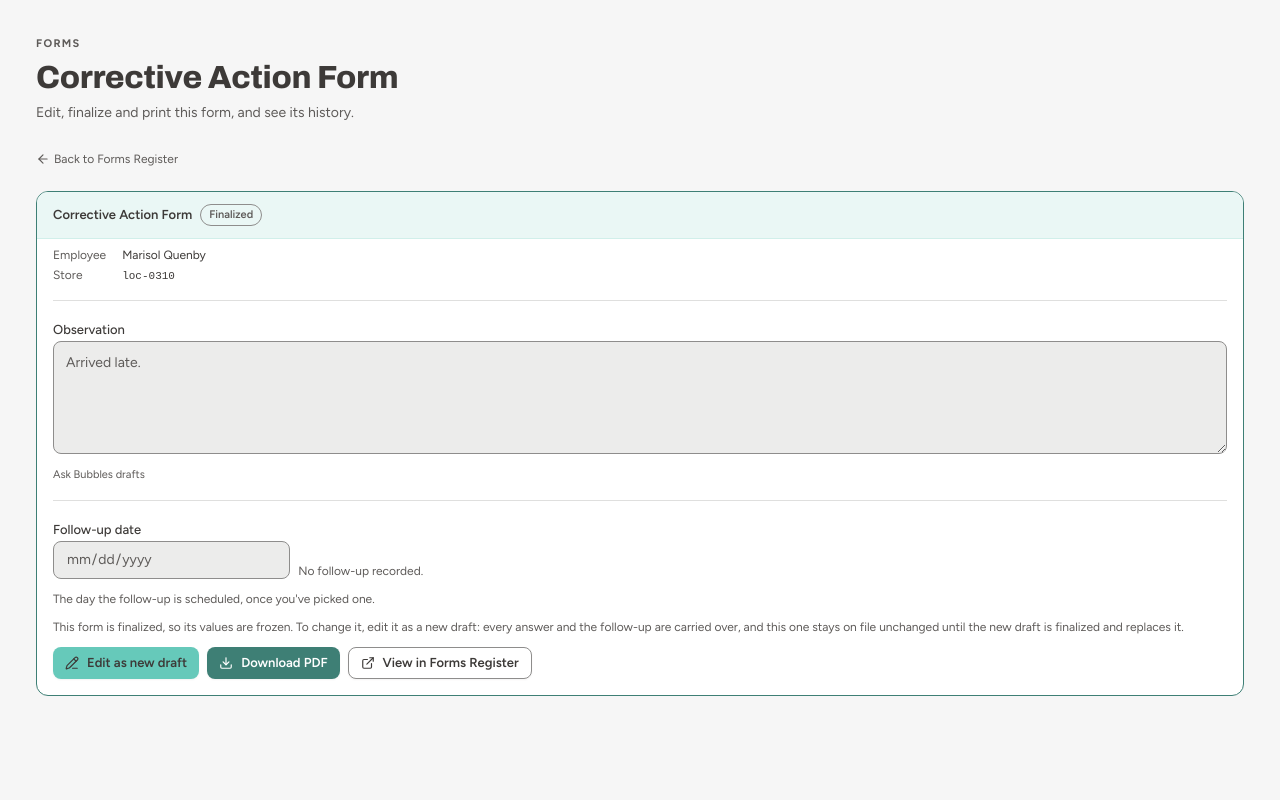
Test: who is offered Edit (the server's edit permission for that template) › on the form page, a location manager still gets the reason dialog
The width and height of the screenshot is (1280, 800).
Click the button "Edit as new draft": (126, 662) [53, 646, 199, 678]
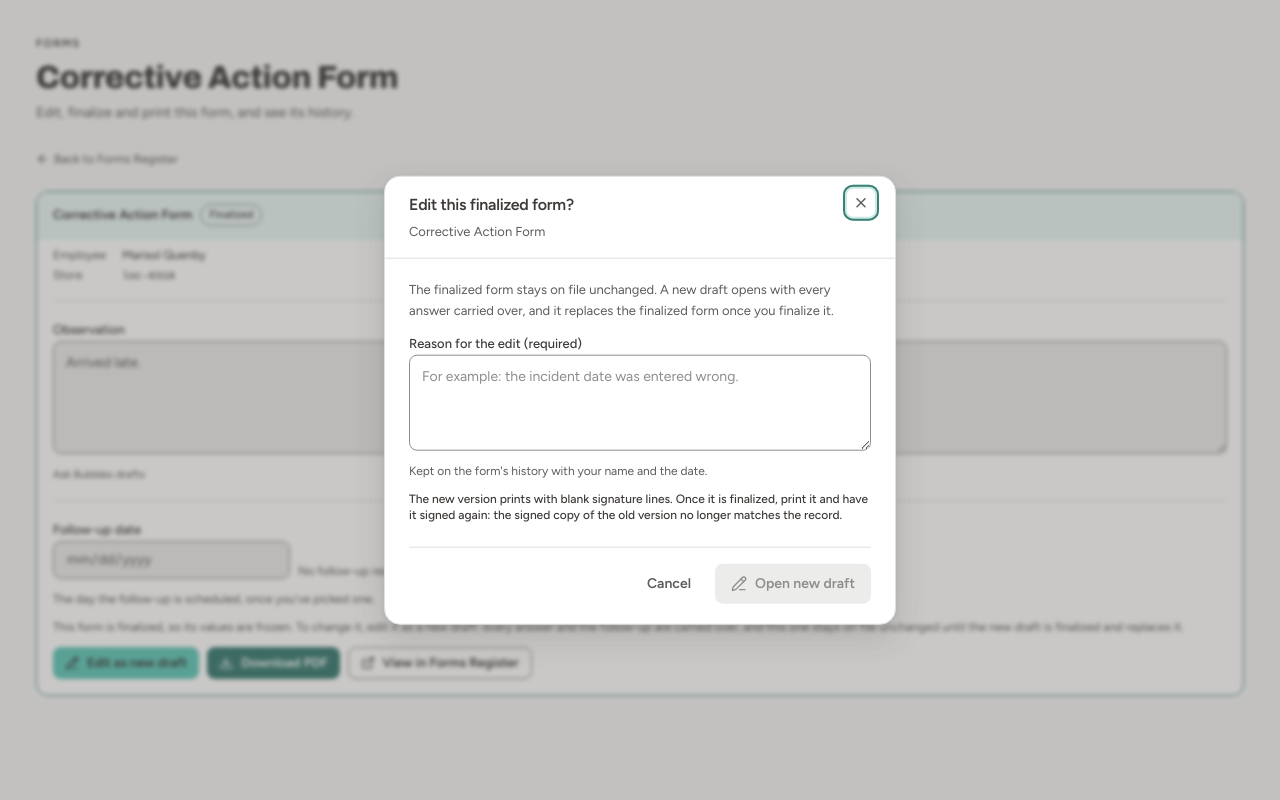
Expected: the element with test id "revision-reason-dialog" is shown, [409, 279, 871, 522]
